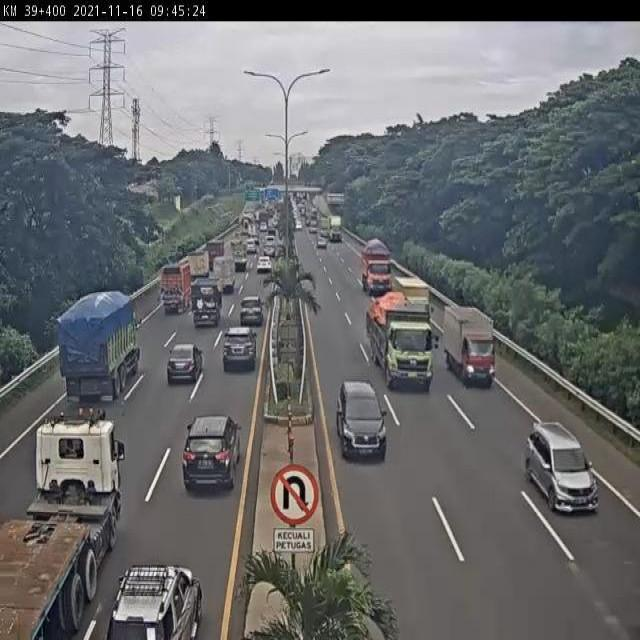car: (526, 424, 600, 524), (113, 570, 207, 640), (178, 416, 242, 491), (337, 380, 388, 465), (223, 323, 259, 365), (169, 339, 204, 381), (238, 295, 265, 324)
small truck: (442, 306, 499, 394), (212, 255, 237, 289), (190, 252, 211, 277)
truck-l-: (64, 290, 146, 394), (366, 297, 436, 391)
truck-m-: (364, 242, 399, 302), (161, 261, 190, 315), (193, 277, 225, 323)
truck-xl-: (0, 400, 128, 640)
